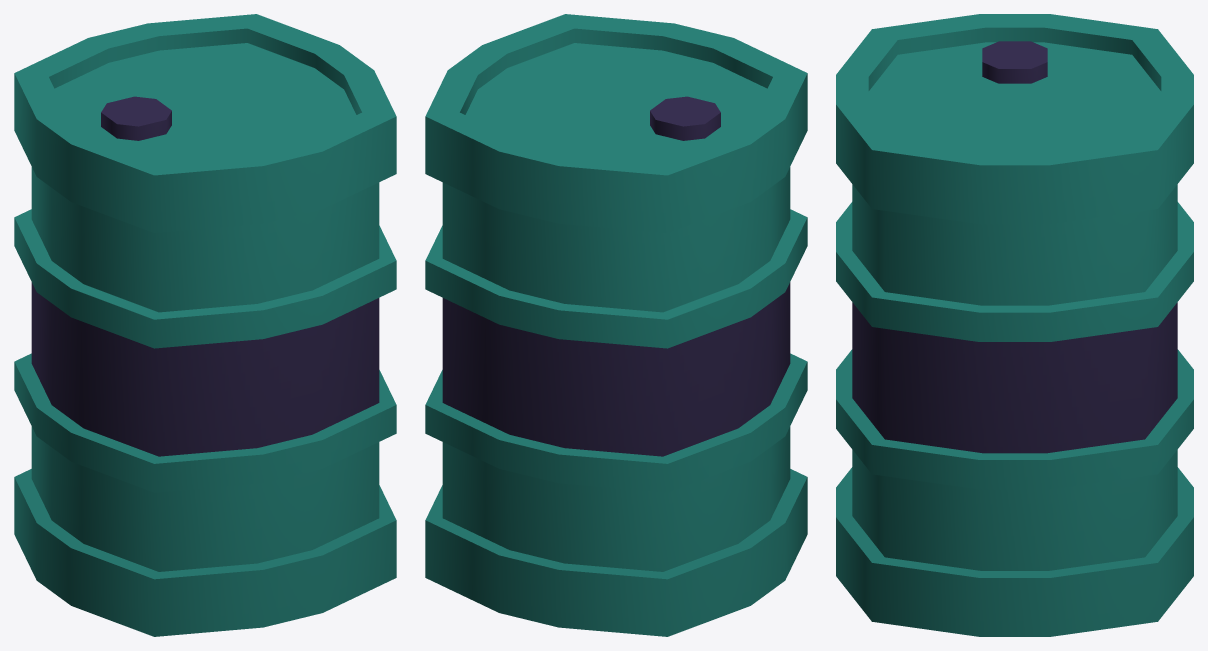
The model's file is drum.glb.
The picture shows the model from 3 angles, left to right: view 1: azimuth 30°, elevation 25°; view 2: azimuth 150°, elevation 25°; view 3: azimuth 270°, elevation 25°; orthographic projection. The views are drawn at different scales.
Visible parts, largest first — view 1: drum; view 2: drum; view 3: drum.
Boxes of the visible parts, x1=… form: drum: x1=14, y1=14, x2=396, y2=636; drum: x1=425, y1=14, x2=807, y2=636; drum: x1=836, y1=14, x2=1193, y2=636.
Size of the model in its own units: 0.2365 by 0.344 by 0.2365.
